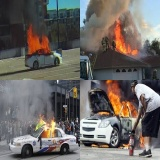fire: (103, 82, 136, 119), (114, 19, 138, 53), (26, 24, 52, 55), (39, 115, 55, 137), (118, 139, 130, 150), (138, 133, 145, 149)
